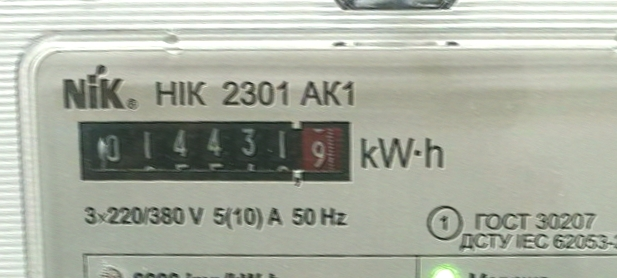0: (102, 129, 123, 162)
1: (138, 125, 157, 159), (275, 126, 290, 158)
3: (238, 124, 259, 157)
4: (169, 123, 192, 157), (204, 122, 224, 157)
9: (309, 135, 327, 167)
screen: (68, 100, 366, 198)
